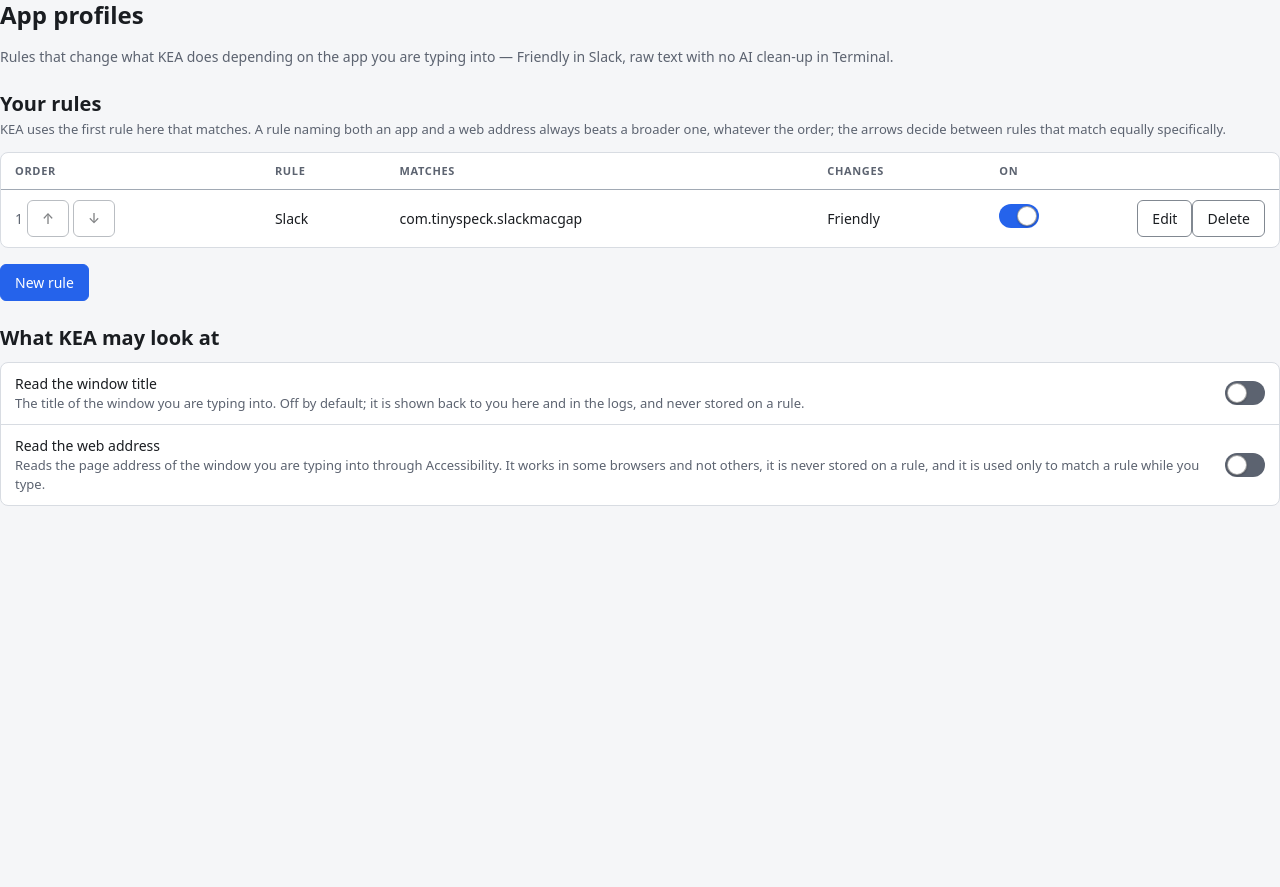
it: ProfilesPage › AI clean-up is a tri-state › offers inherit, always and never as three separate choices
Step 1. Click the button with aria-label "Edit Slack" → (1165, 219), box [1137,200,1192,237]
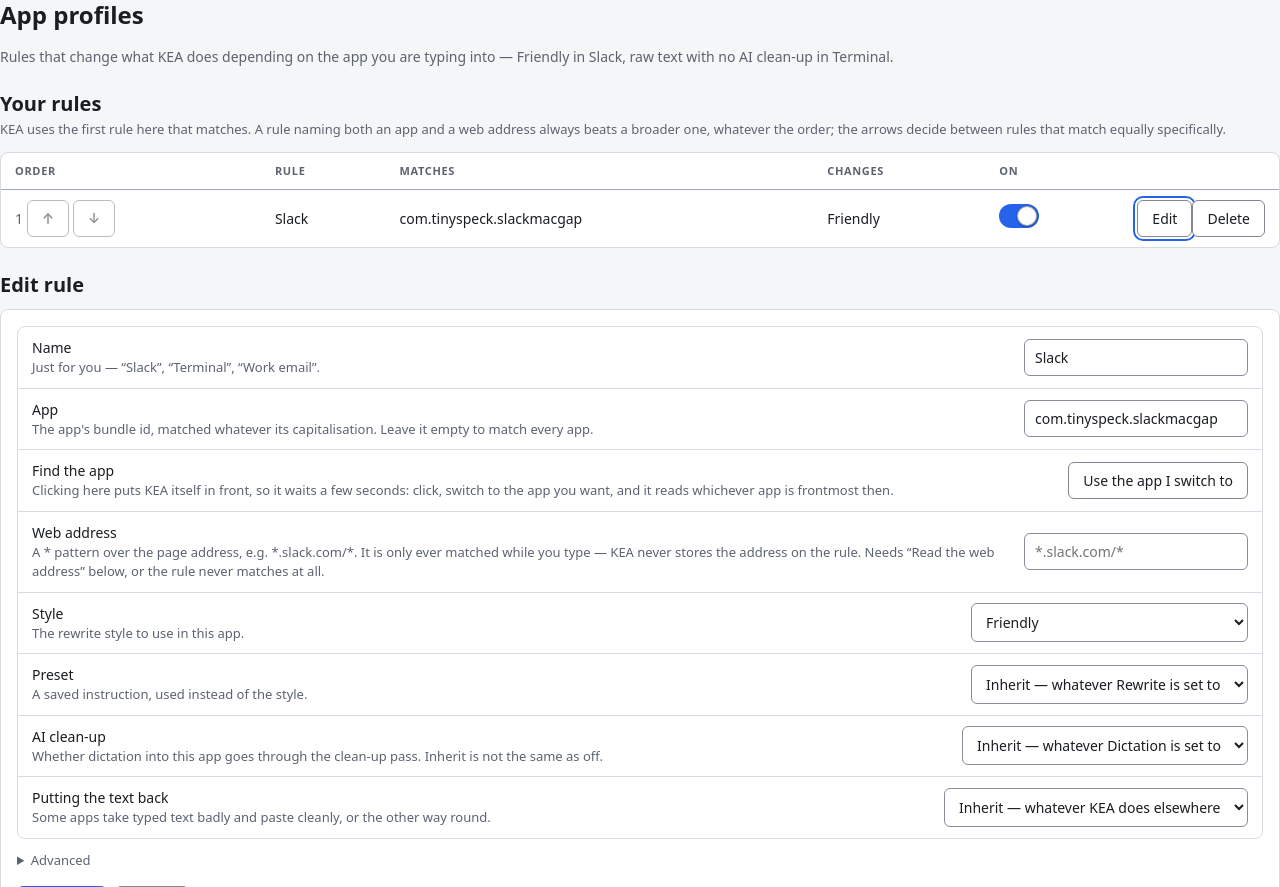
Now the dropdown named "AI clean-up" shows "Inherit — whatever Dictation is set to", box [962,726,1248,765]
